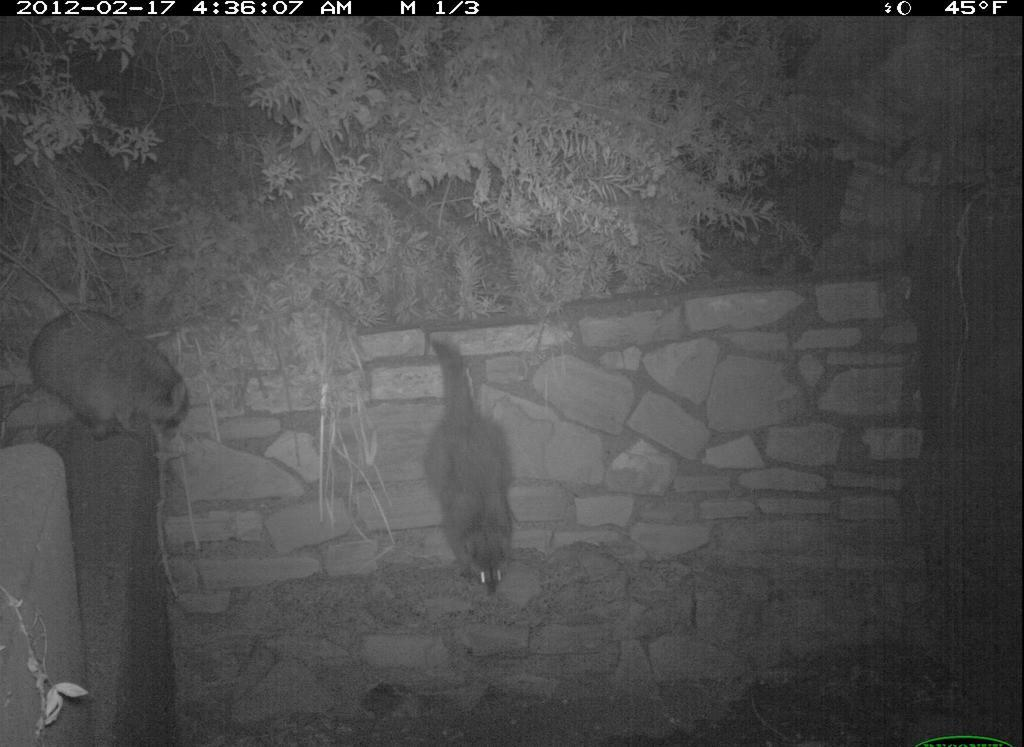raccoon: (417, 336, 541, 607), (31, 295, 199, 456)
